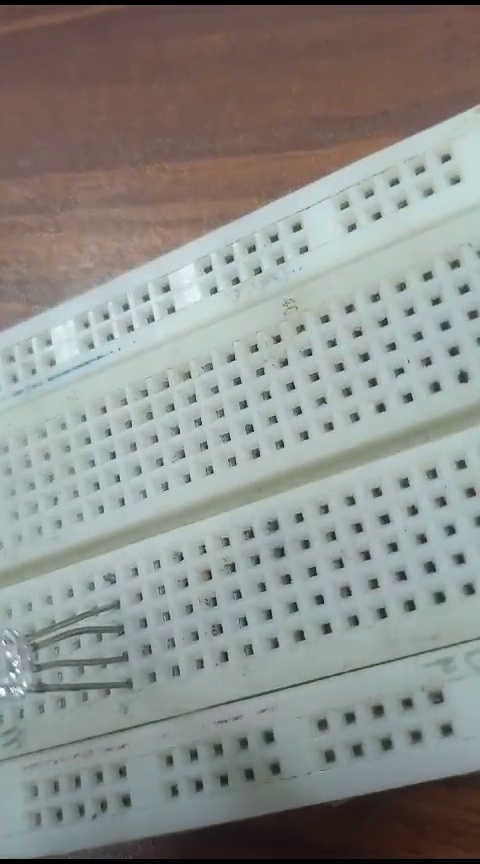LED: (3, 607, 143, 709)
